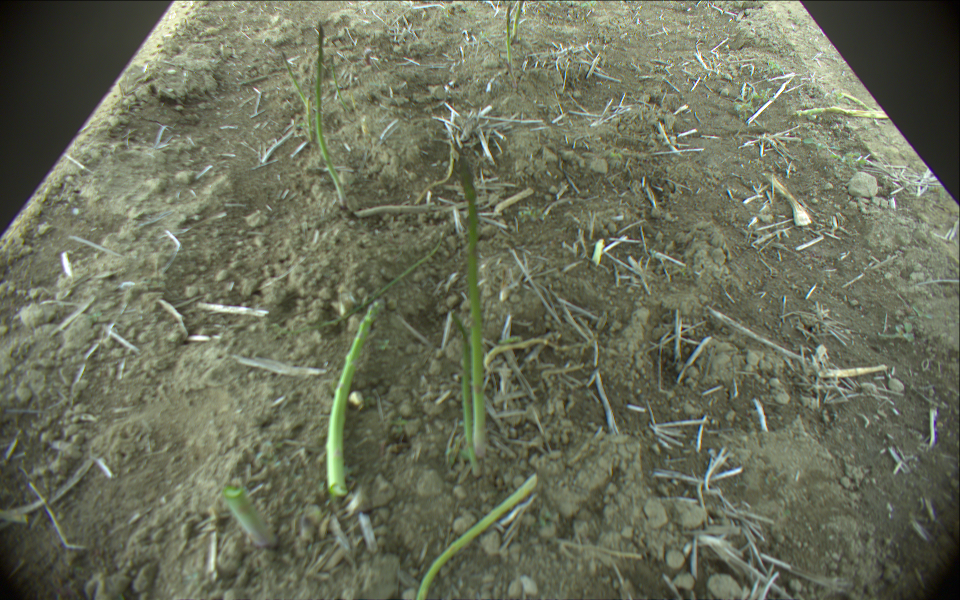aspa: (417, 475, 540, 600), (322, 299, 386, 492), (456, 156, 492, 464), (314, 24, 347, 205), (452, 309, 482, 478), (218, 482, 278, 548), (279, 53, 313, 111), (331, 55, 343, 104), (511, 1, 523, 41), (505, 1, 512, 64), (308, 94, 313, 147)
